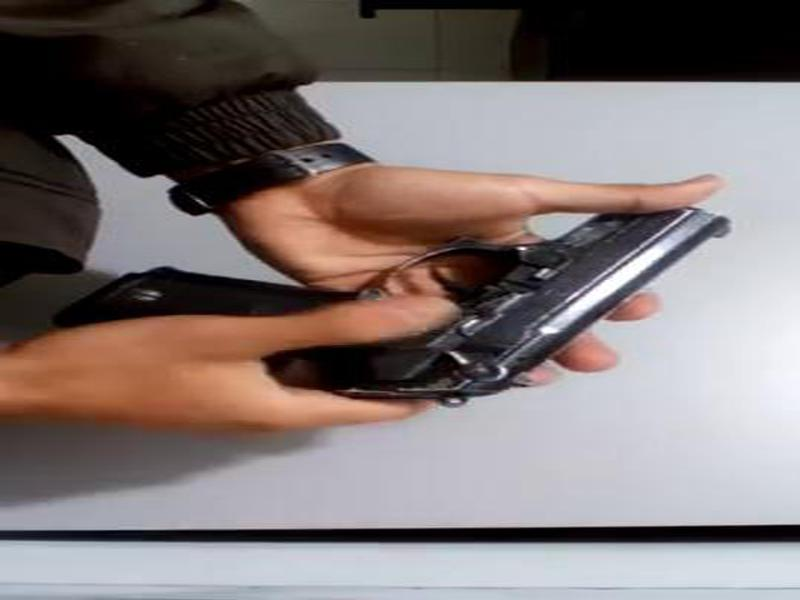Pistola: (57, 182, 741, 417)
